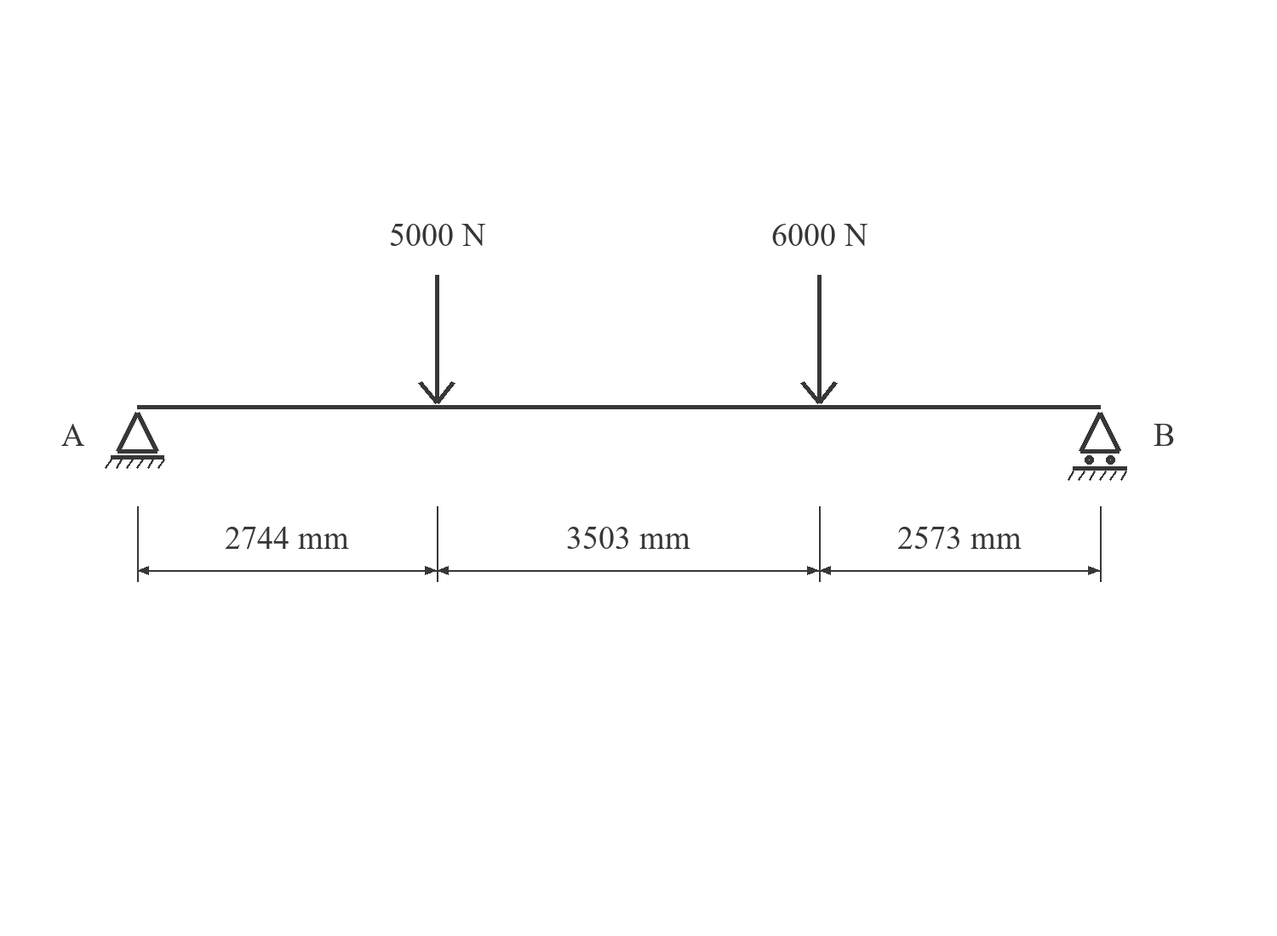pin_support: (105, 412, 165, 469)
point_load: (800, 275, 838, 404), (418, 275, 455, 404)
roller_support: (1068, 412, 1127, 481)
